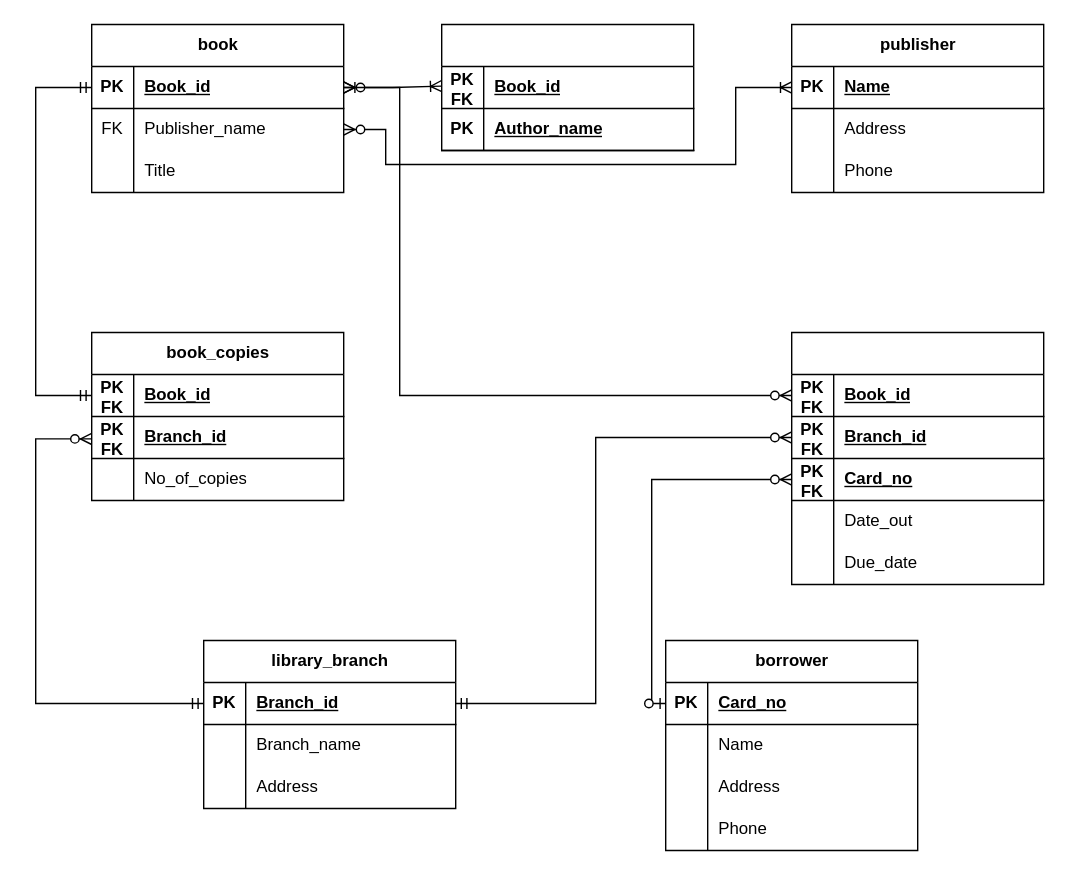
This 1068x875 diagram has some shape labels left out. The box of each missing label's shape, as (x1, y1, x2, y2) in pixels:
book_authors: (440, 23, 694, 150)
book_loans: (790, 331, 1044, 584)
